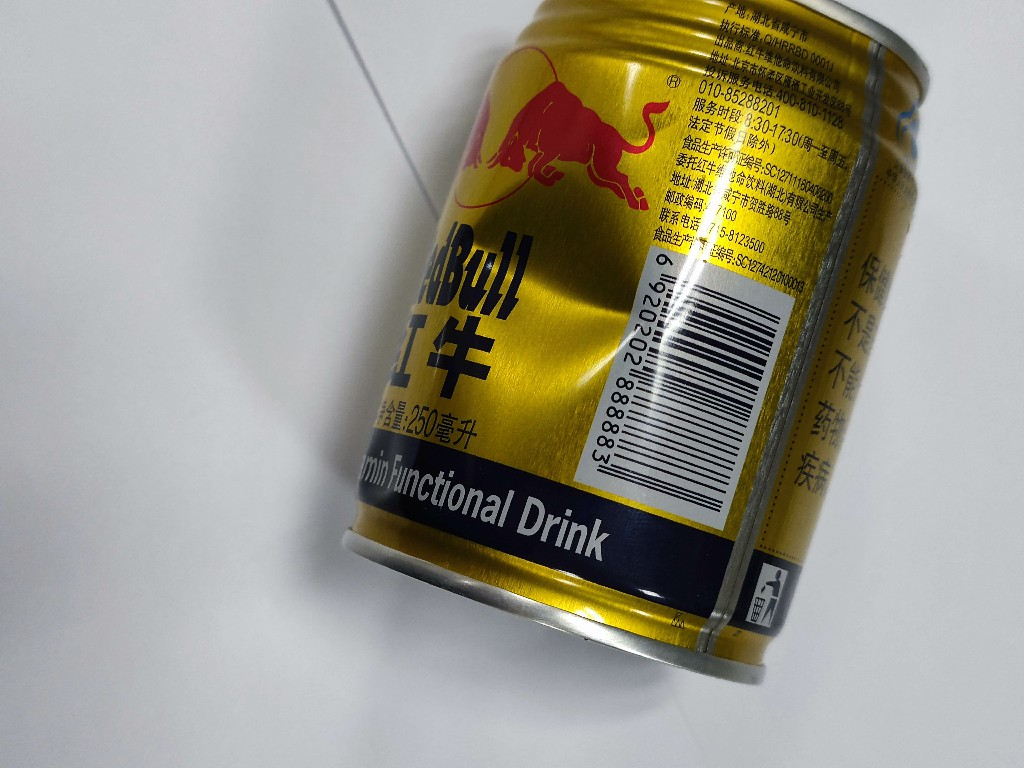can: (335, 1, 926, 689)
